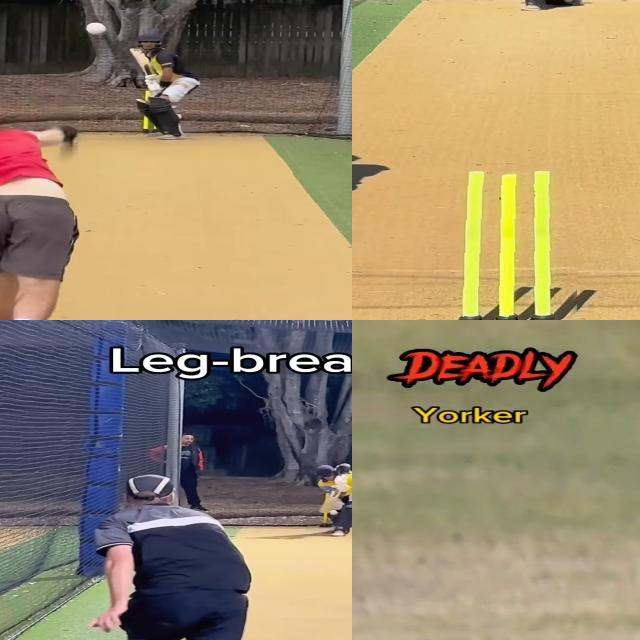Cricket ball: (83, 20, 110, 38), (329, 511, 339, 516)
Stumps: (445, 169, 580, 320)
